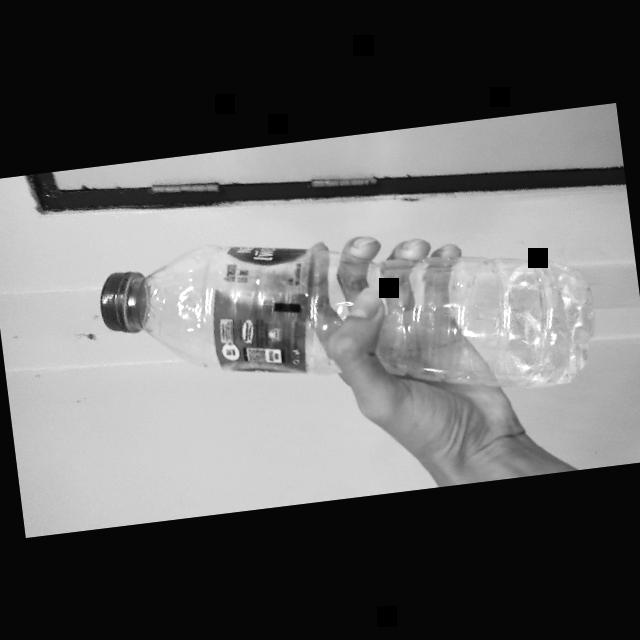plastic_bottle: (79, 199, 610, 445)
